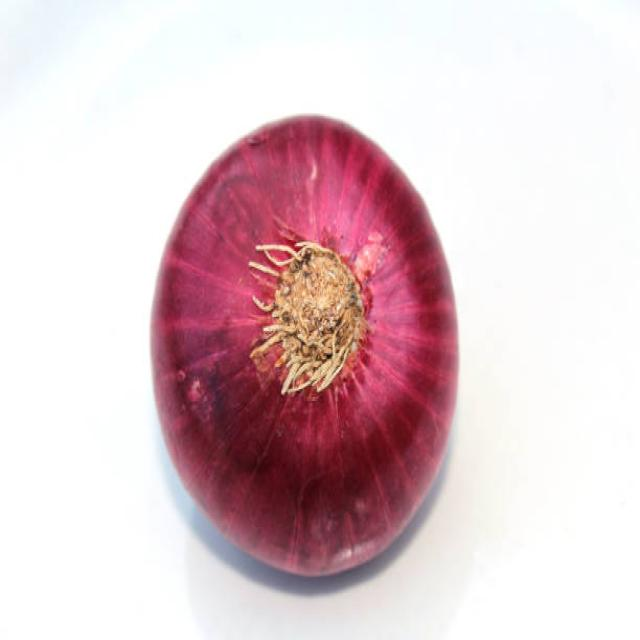onion: (142, 93, 467, 585)
